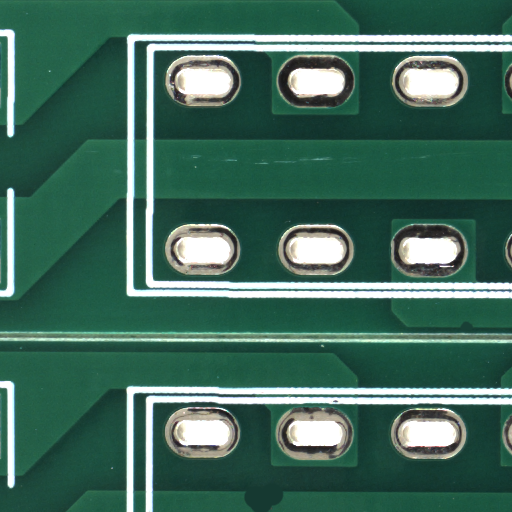Mouse_bite: (263, 499, 304, 512), (466, 325, 481, 334)
